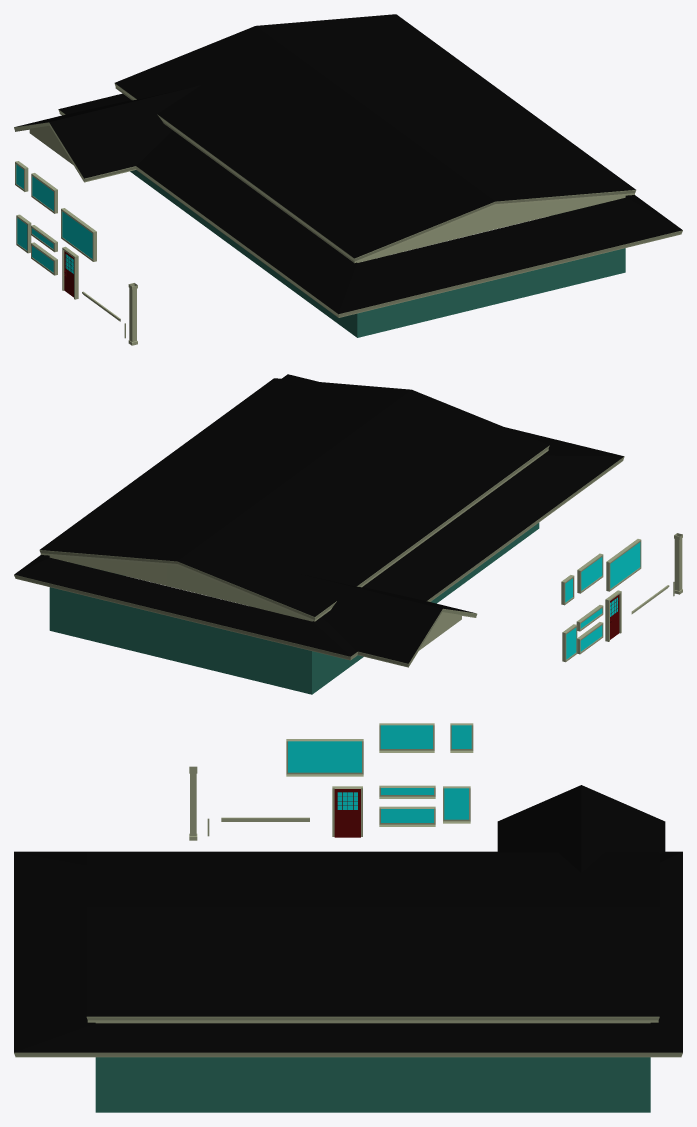
The model's file is Community Center.fbx.
3 renders of one model, top to bottom at view 1: azimuth 30°, elevation 25°; view 2: azimuth 150°, elevation 25°; view 3: azimuth 270°, elevation 25°, orthographic. The views are drawn at different scales.
Visible parts, largest first — view 1: Roof1, House_4_Roof, Building, polySurface43, pCube171, pCube170, pCube174, pCube137, pCube172; view 2: Roof1, House_4_Roof, Building, polySurface43, pCube171, pCube170, pCube137, pCube172, pCube174; view 3: Roof1, House_4_Roof, Building, polySurface43, pCube171, pCube170, polySurface49, pCube174, pCube172, pCube173, pCube110.
Part boxes in pixels (box(x1,y1,x2,y2)): Roof1: box(114, 14, 636, 263); House_4_Roof: box(58, 93, 682, 317); Building: box(130, 170, 625, 337); polySurface43: box(14, 85, 199, 182); pCube171: box(61, 208, 96, 261); pCube170: box(31, 173, 57, 213); pCube174: box(31, 242, 57, 275); pCube137: box(128, 283, 137, 345); pCube172: box(16, 214, 31, 253); Roof1: box(39, 378, 549, 621); House_4_Roof: box(14, 374, 624, 660); Building: box(49, 522, 539, 694); polySurface43: box(295, 572, 477, 667); pCube171: box(606, 539, 641, 591); pCube170: box(577, 553, 603, 593); pCube137: box(674, 533, 682, 594); pCube172: box(562, 624, 577, 662); pCube174: box(577, 622, 603, 654); Roof1: box(86, 852, 659, 1023); House_4_Roof: box(14, 851, 682, 1057); Building: box(95, 1057, 650, 1112); polySurface43: box(497, 785, 665, 872); pCube171: box(286, 739, 363, 776); pCube170: box(379, 723, 434, 752); polySurface49: box(334, 789, 360, 837); pCube174: box(379, 806, 435, 826); pCube172: box(443, 786, 470, 823); pCube173: box(379, 785, 435, 798); pCube110: box(450, 723, 473, 752).
Bounding box in the file's own units: 85.43 × 18.2 × 86.79.
